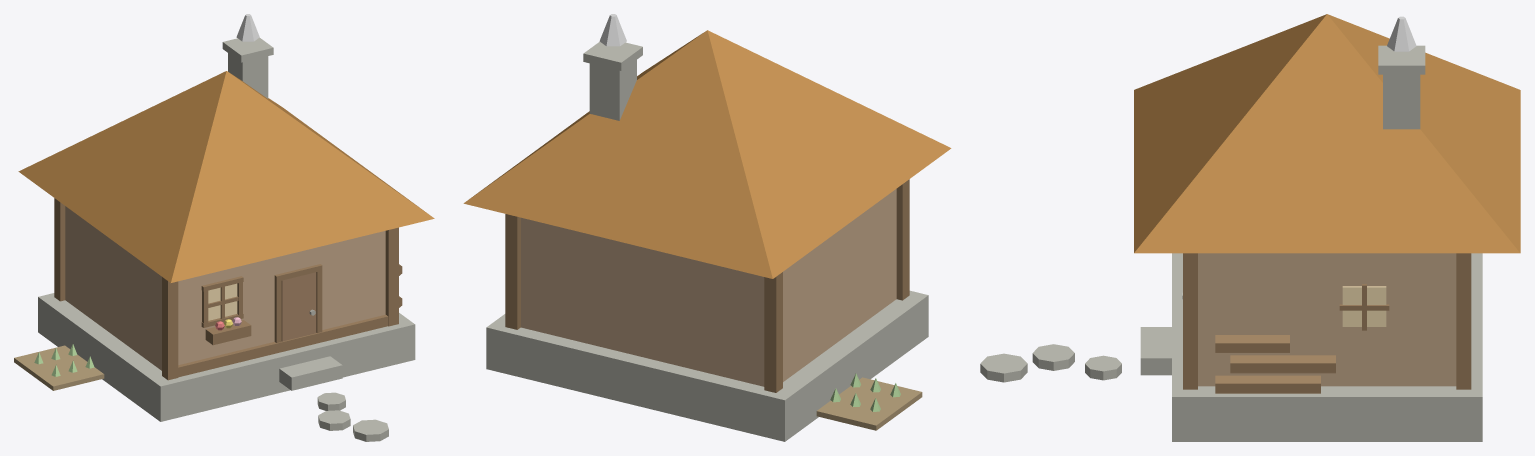
File: small_house.glb
The picture shows the model from 3 angles, left to right: view 1: azimuth 30°, elevation 25°; view 2: azimuth 150°, elevation 25°; view 3: azimuth 270°, elevation 25°; orthographic projection. The views are drawn at different scales.
Visible parts, largest first — view 1: roof, walls, foundation, beam_bottom_front, door, garden_patch, post_-1_-1, door_step, post_1_-1, post_-1_1, chimney, chimney_cap (+8 smaller); view 2: roof, walls, foundation, garden_patch, post_-1_1, chimney, post_1_1, post_-1_-1, chimney_cap, smoke; view 3: roof, walls, foundation, post_1_1, chimney, post_1_-1, door_step, side_win_glow, log_1_0, log_0_0, log_2_0, chimney_cap (+6 smaller).
Boxes of the visible parts, x1,y1,x2,y2 form: roof: (18,71,434,282); walls: (65,206,385,370); foundation: (38,293,415,421); beam_bottom_front: (178,314,388,377); door: (281,272,316,341); garden_patch: (14,345,104,390); post_-1_-1: (162,277,178,380); door_step: (279,356,342,390); post_1_-1: (385,227,398,326); post_-1_1: (54,198,65,301); chimney: (228,53,268,98); chimney_cap: (222,37,273,62); roof: (463,30,951,278); walls: (521,189,896,386); foundation: (486,290,928,441); garden_patch: (816,377,922,430); post_-1_1: (764,272,782,392); chimney: (589,60,636,120); post_1_1: (505,214,520,329); post_-1_-1: (896,179,909,300); chimney_cap: (583,41,642,70); smoke: (599,14,626,46); roof: (1134,14,1520,253); walls: (1198,253,1456,386); foundation: (1172,253,1482,441); post_1_1: (1456,253,1471,389); chimney: (1383,74,1420,129); post_1_-1: (1183,253,1197,389); door_step: (1140,327,1171,375); side_win_glow: (1342,286,1386,326); log_1_0: (1230,355,1304,373); log_0_0: (1215,375,1289,393); log_2_0: (1215,335,1289,352); chimney_cap: (1378,45,1425,74).
Bounding box in the file's own units: 0.3656 × 0.3345 × 0.4346.
